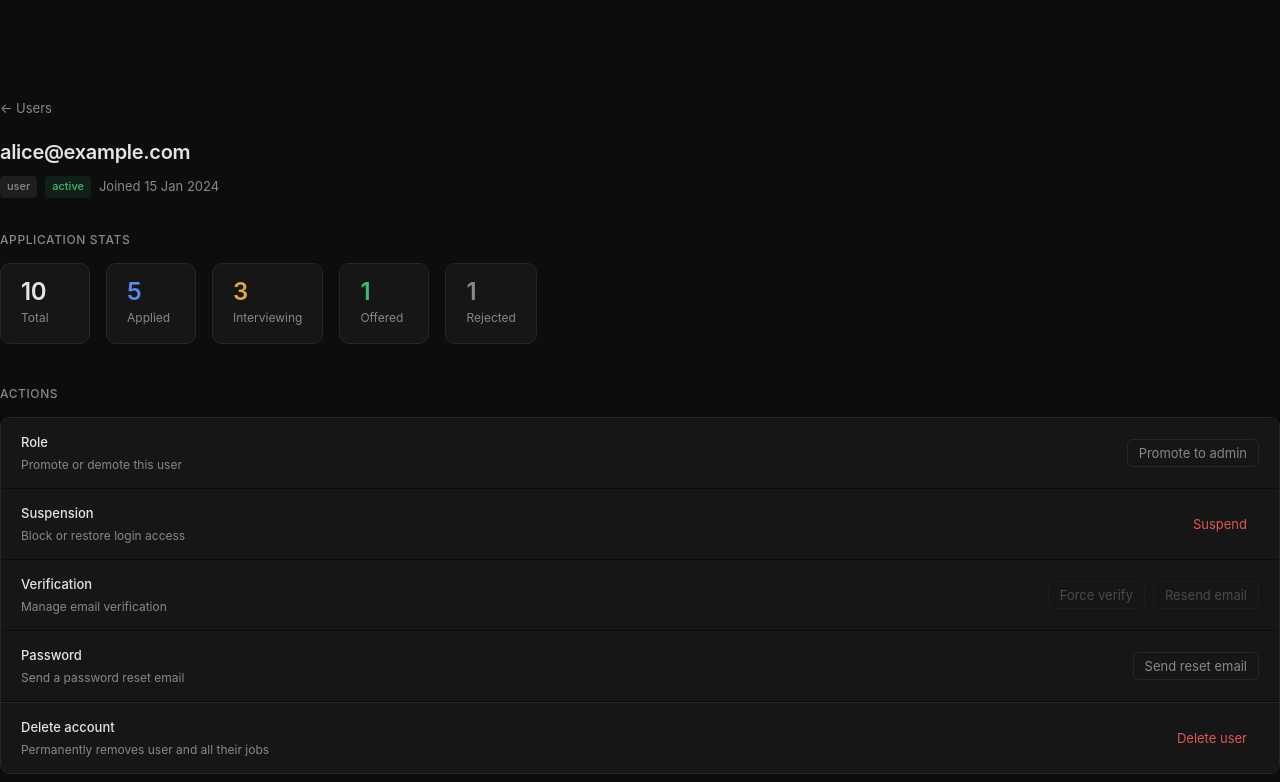
Scenario: AdminUserDetail › optimistically updates to "suspended" badge after suspend succeeds
Click the button "Suspend" at (1220, 524), box [1181, 510, 1259, 538]
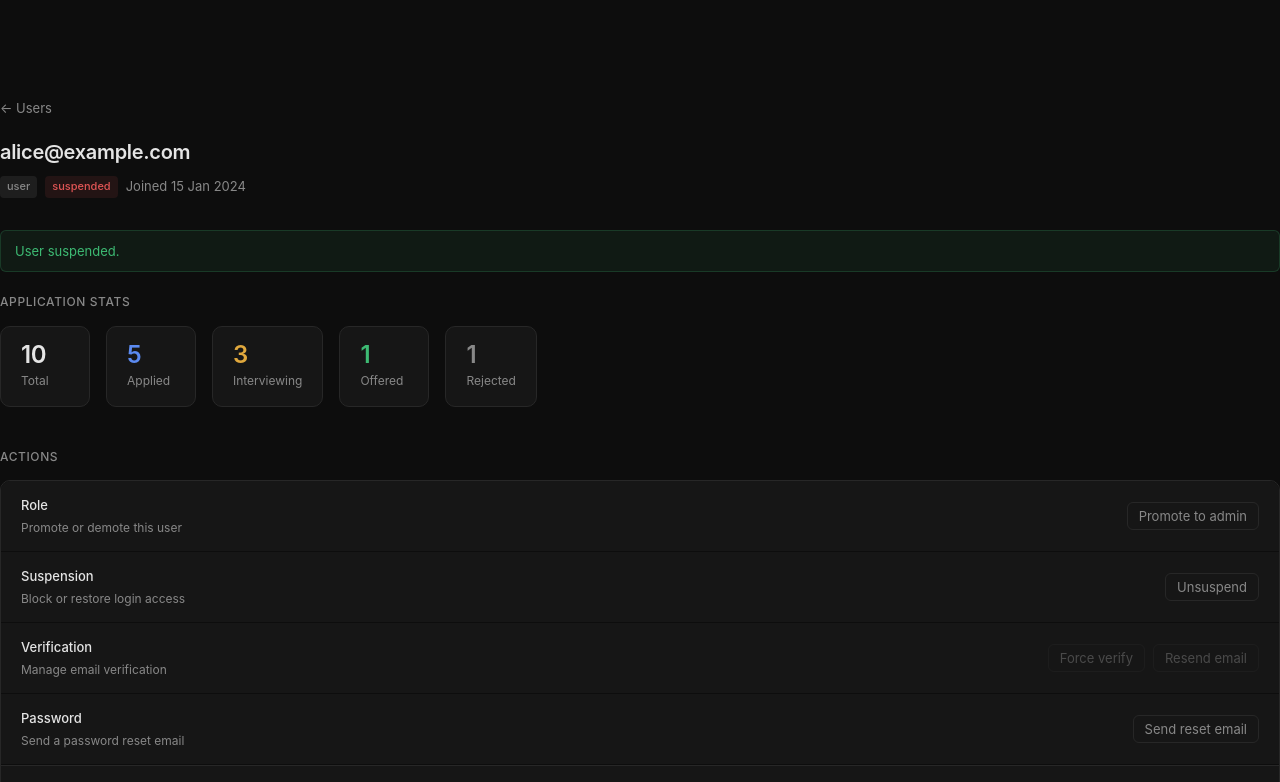
Now the text with class "badge-danger" reads "suspended", box [52, 179, 111, 193]
